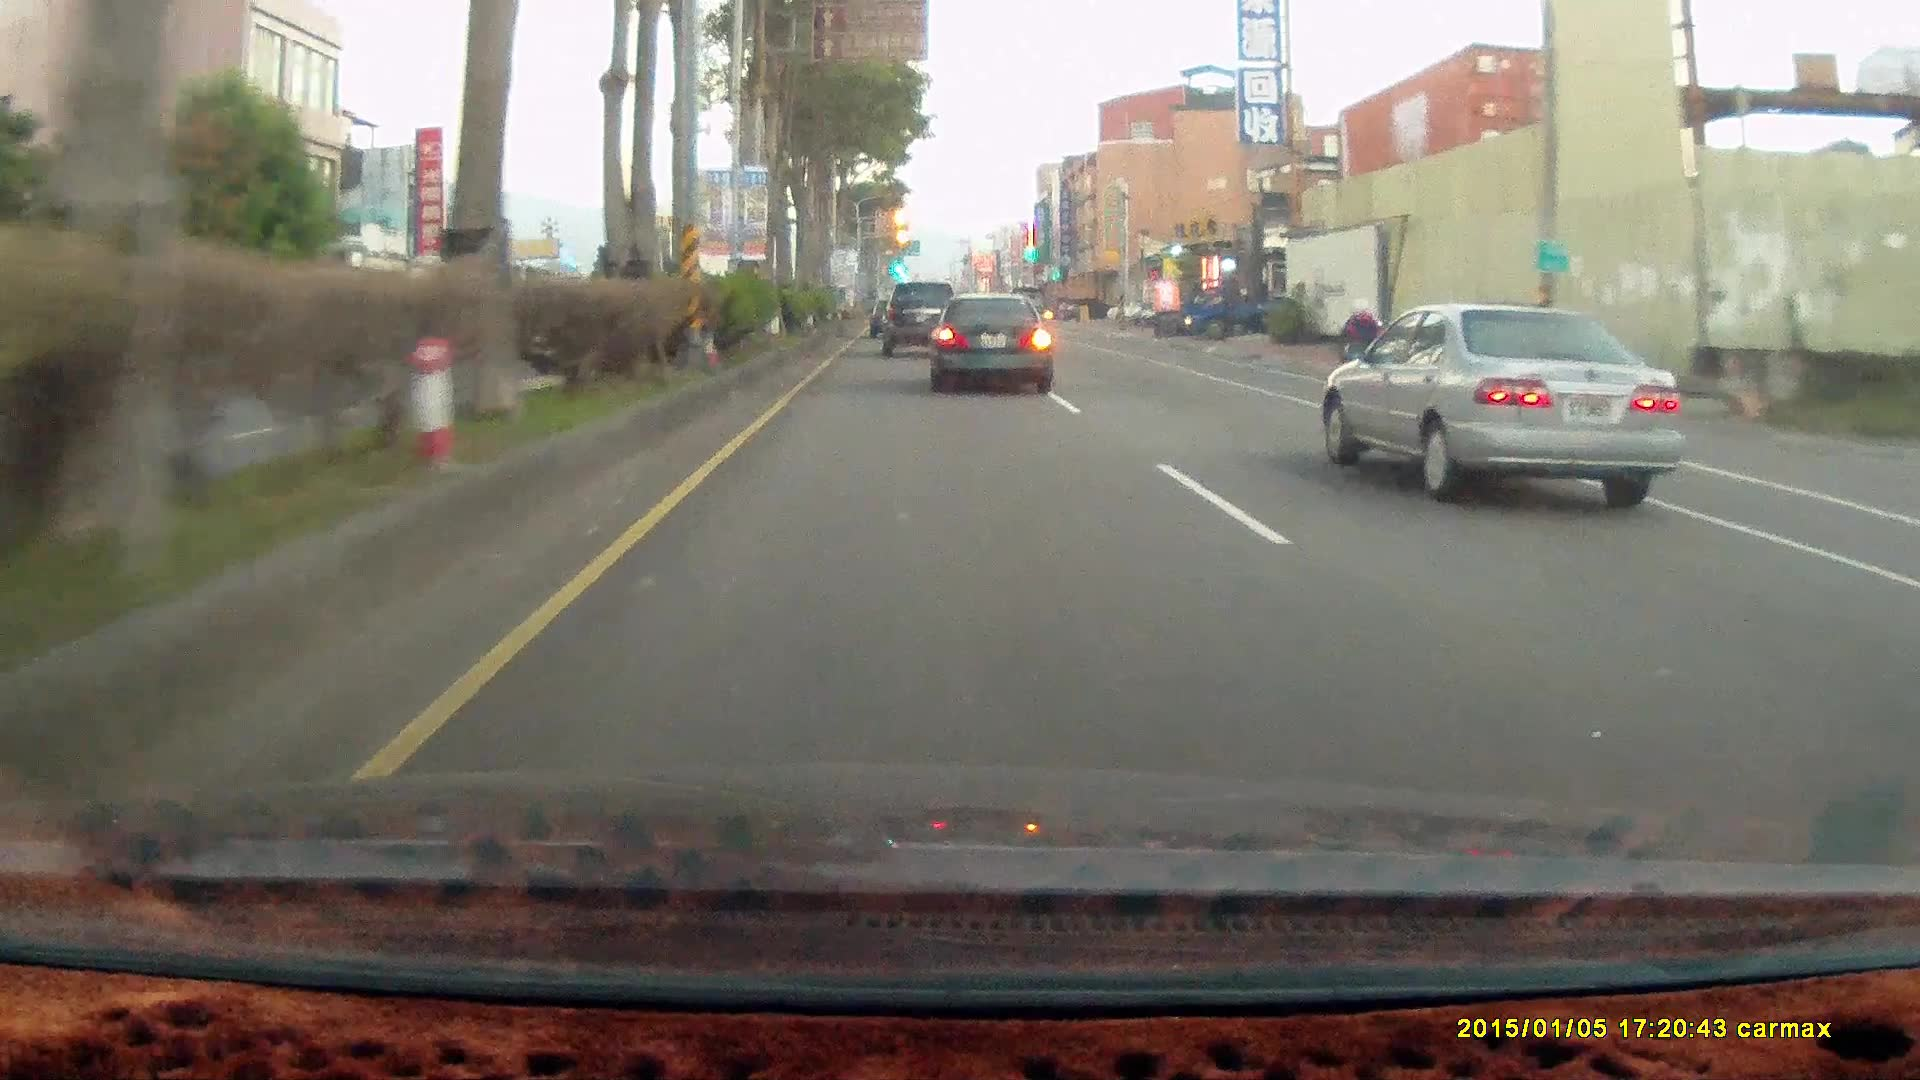rider: (1333, 291, 1395, 391), (1332, 290, 1388, 398)
vehicle: (1320, 300, 1684, 508), (1319, 304, 1683, 500), (923, 290, 1053, 393), (935, 299, 1062, 394), (1178, 272, 1292, 341), (1178, 273, 1293, 342), (885, 283, 963, 358), (881, 280, 959, 354), (1064, 295, 1113, 318)
